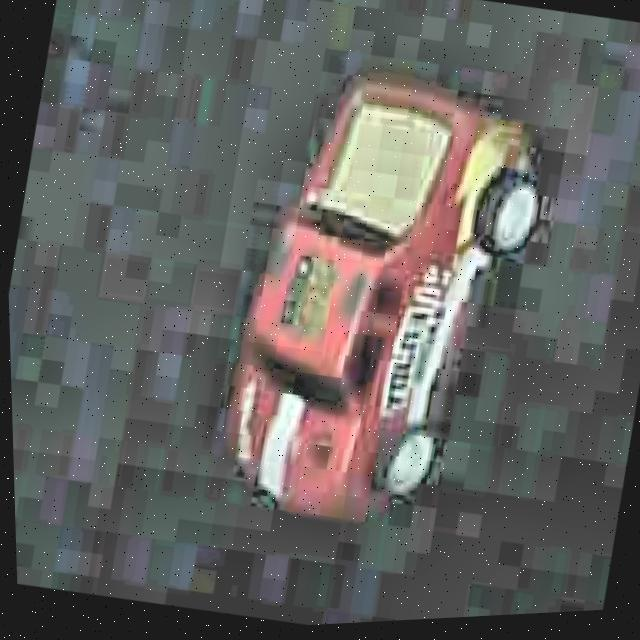car: (185, 32, 579, 563)
